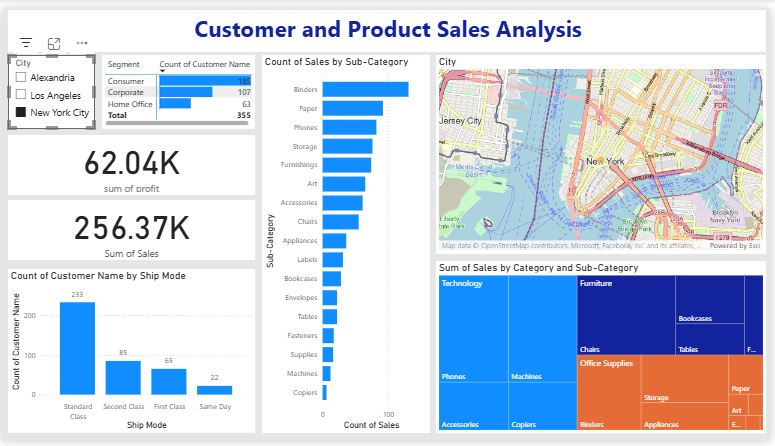

The page's visual inventory and layout, read from the dashboard file:
{"tool":"powerbi","page":{"name":"Page 1","canvas":[1280,720],"ordinal":0},"visuals":[{"type":"clusteredColumnChart","fields":{"Category":["Orders.Ship Mode"],"Y":["Count(Orders.Customer Name)"]},"box":[10,433.3,411.7,273.3],"z":0},{"type":"pivotTable","fields":{"Rows":["Orders.Ship Mode","Orders.Segment"],"Values":["Count(Orders.Customer Name)"]},"box":[166.7,76.7,255,123.3],"z":1000},{"type":"slicer","fields":{"Values":["Orders.City"]},"box":[10,76.7,145,123.3],"z":2000},{"type":"card","fields":{"Values":["Sum(Orders.Sales)"]},"box":[10,318.3,411.7,100],"z":3000},{"type":"card","fields":{"Values":["Orders.sum of profit"]},"box":[10,210,411.7,100],"z":4000},{"type":"clusteredBarChart","fields":{"Category":["Orders.Sub-Category"],"Y":["Count(Orders.Sales)"]},"box":[433.3,76.7,280,630],"z":5000},{"type":"treemap","fields":{"Values":["Sum(Orders.Sales)"],"Group":["Orders.Category"],"Details":["Orders.Sub-Category"]},"box":[723.3,420,550,286.7],"z":6000},{"type":"esriVisual","fields":{"Location":["Orders.City"]},"box":[723.3,76.7,550,330],"z":8000},{"type":"textbox","box":[10,1.7,1263.3,70],"z":9000}]}

Visuals, with their boxes in screenshot pixels (x1, y1, x2, y2), scaled from the page's 1280x720 canvas onto the 775x446 screenshot:
clusteredColumnChart - Orders.Ship Mode x Count(Orders.Customer Name): (left=6, top=268, right=255, bottom=438)
pivotTable - Orders.Ship Mode x Orders.Segment: (left=101, top=48, right=255, bottom=124)
slicer - Orders.City: (left=6, top=48, right=94, bottom=124)
card - Sum(Orders.Sales): (left=6, top=197, right=255, bottom=259)
card - Orders.sum of profit: (left=6, top=130, right=255, bottom=192)
clusteredBarChart - Orders.Sub-Category x Count(Orders.Sales): (left=262, top=48, right=432, bottom=438)
treemap - Sum(Orders.Sales) x Orders.Category: (left=438, top=260, right=771, bottom=438)
esriVisual - Orders.City: (left=438, top=48, right=771, bottom=252)
textbox: (left=6, top=1, right=771, bottom=44)
